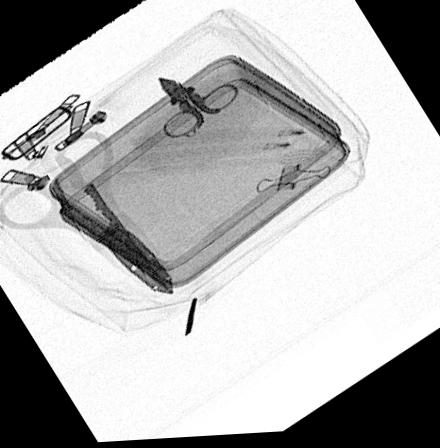Scissors: (0, 135, 180, 299), (156, 80, 240, 144)
